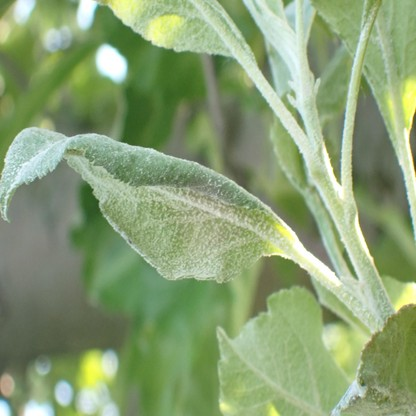powder: (1, 126, 300, 285), (216, 285, 354, 416), (330, 305, 416, 416), (94, 0, 249, 55)
